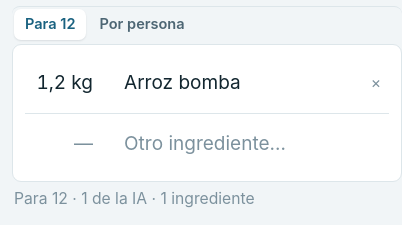
it: el renglón del pie › y de quién es el número cuando lo puso la IA
Click the field named "Ingrediente 1".
click(233, 83)  # box [113,60,353,106]
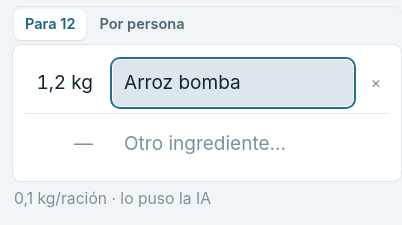
Now the message shows "lo puso la IA", box [14,189,211,208]
